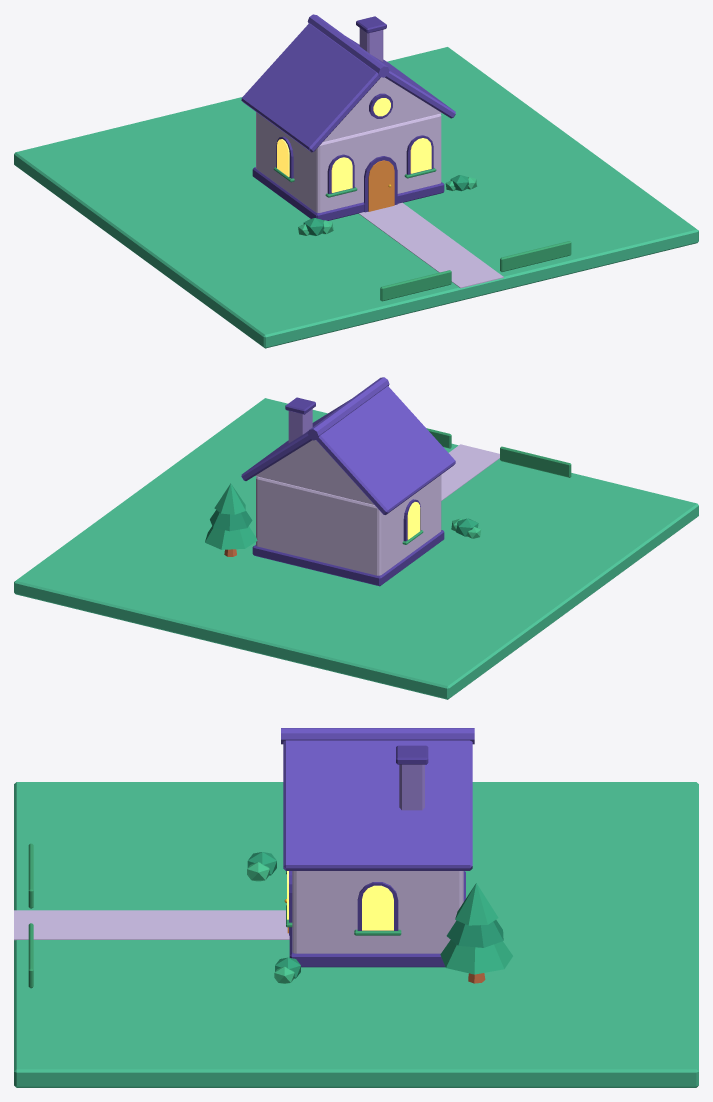
The model's file is bld_house_lilac.glb.
The picture shows the model from 3 angles, top to bottom: view 1: azimuth 30°, elevation 25°; view 2: azimuth 150°, elevation 25°; view 3: azimuth 270°, elevation 25°; orthographic projection. The views are drawn at different scales.
Visible parts, largest first — view 1: bld_house_lilac; view 2: bld_house_lilac; view 3: bld_house_lilac.
Boxes of the visible parts, x1,y1,x2,y2 form: bld_house_lilac: [14, 14, 698, 348]; bld_house_lilac: [14, 377, 698, 699]; bld_house_lilac: [14, 728, 698, 1087].
Bounding box in the file's own units: 16 × 5.57 × 16.
